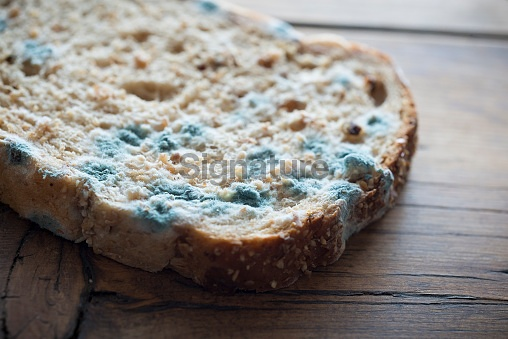slice of bread: (3, 3, 420, 303)
